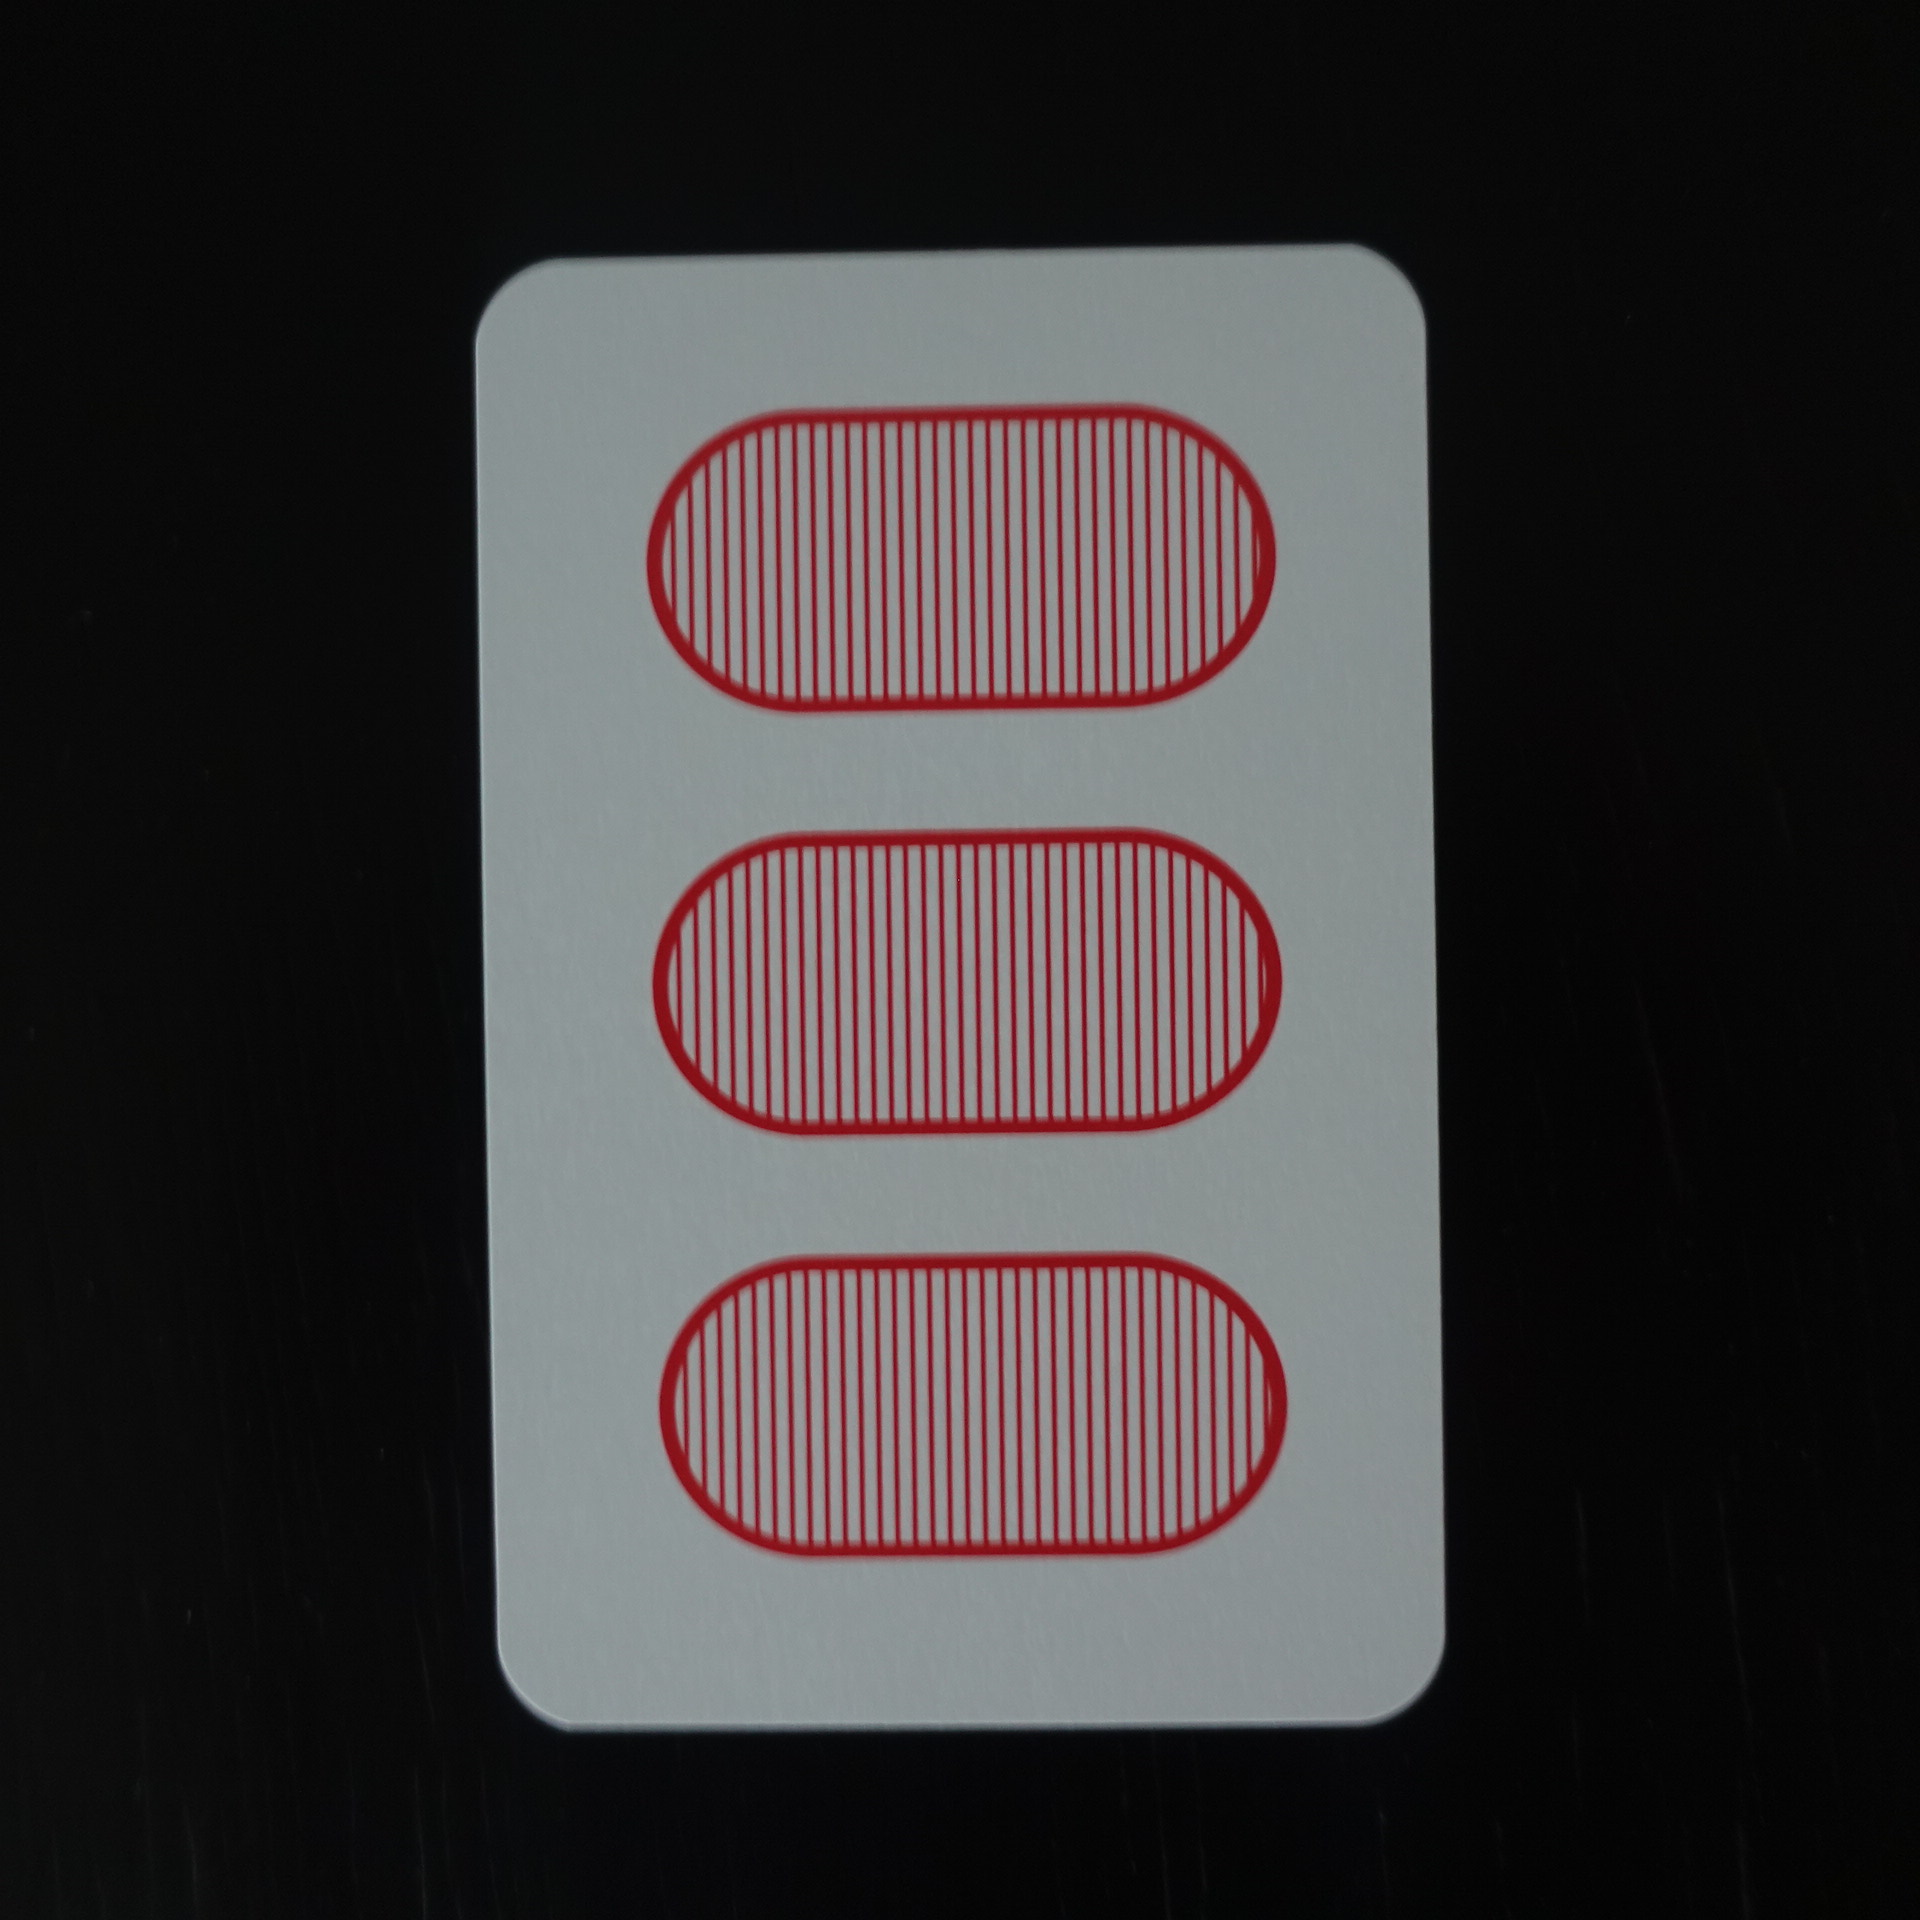c-3-h-o-r: (390, 202, 1486, 1769)
